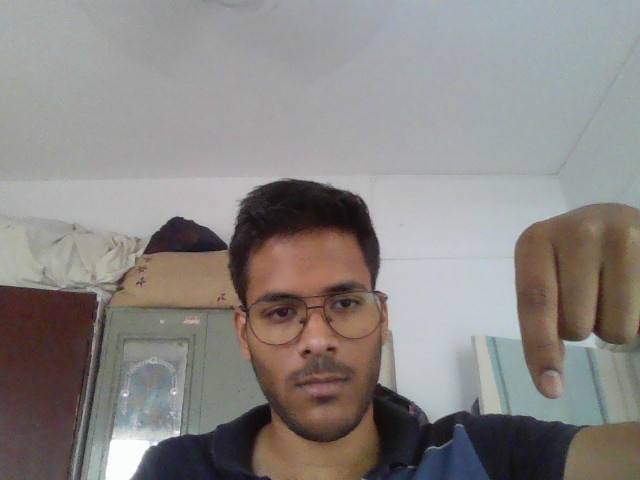yes: (501, 188, 640, 417)
